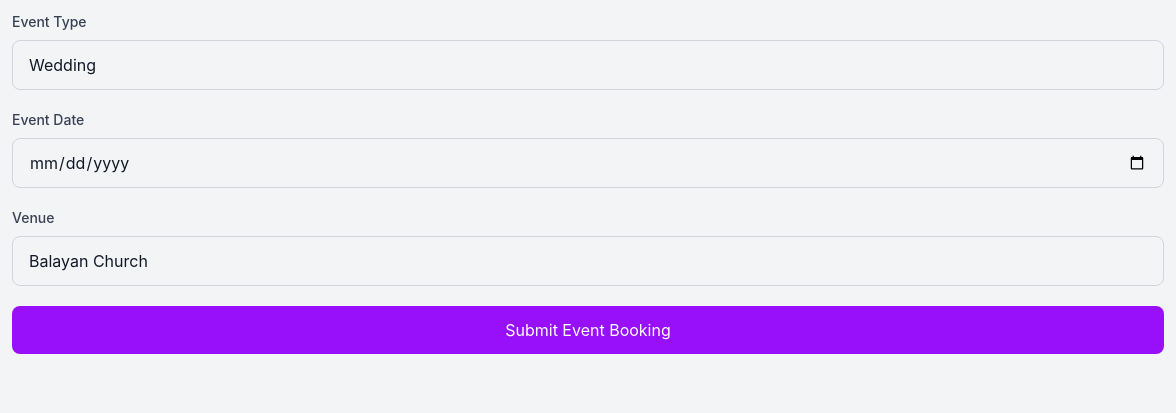
EventInformation Component › shows message when some fields are missing
Click the button "Submit Event Booking" at (588, 330), box [12,306,1164,354]
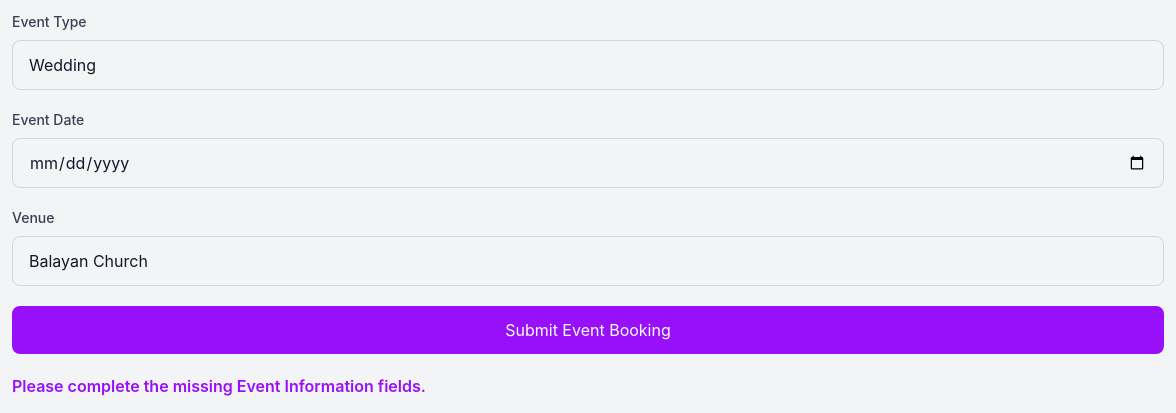
Result: the text "Please complete the missing Event Information fields." is shown at [12,376,426,396]
